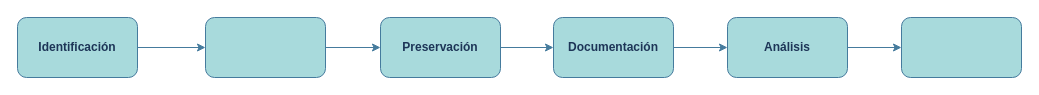
Image size: 1039x95. Some labels were removed from this diagram. The box of each missing label's shape, as (x1, y1, x2, y2) in pixels:
Adquisición: (204, 16, 326, 78)
Presentación: (900, 16, 1022, 78)
